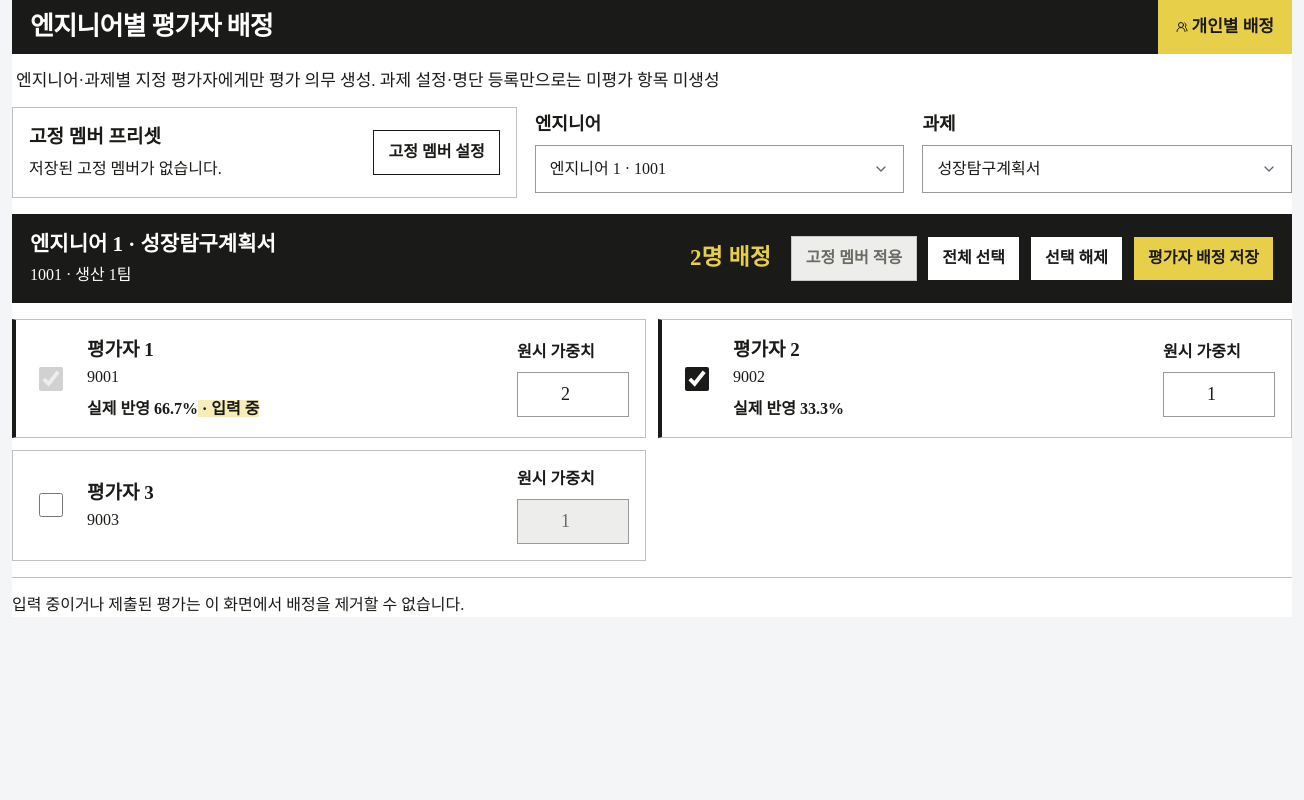
EvaluatorAssignmentPanel › clears only removable evaluators when bulk clearing is requested
Click the button "선택 해제" at (1077, 259), box 1030,236 -> 1123,281
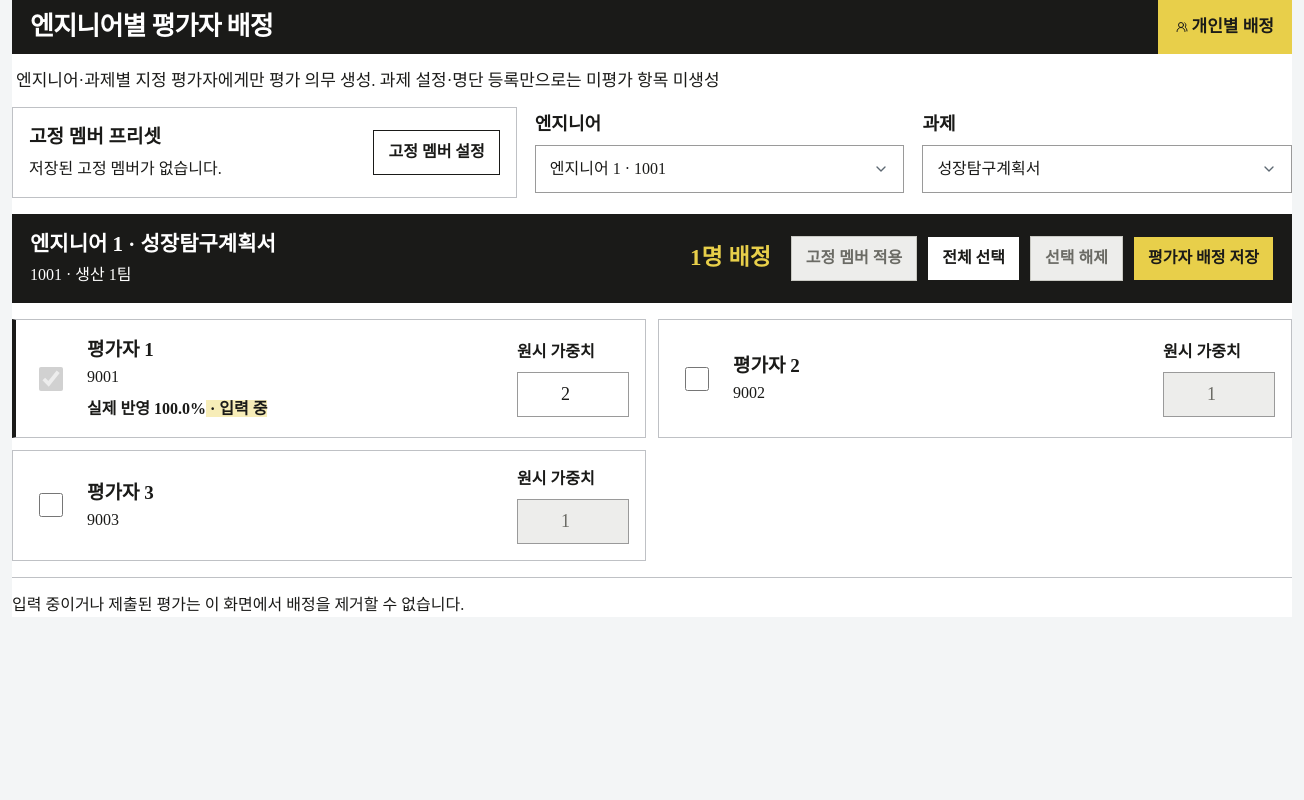
Check: the checkbox named "평가자 1 평가 배정" is checked, box 39,366 -> 63,390
Check: the checkbox named "평가자 2 평가 배정" is not checked, box 685,366 -> 709,390
